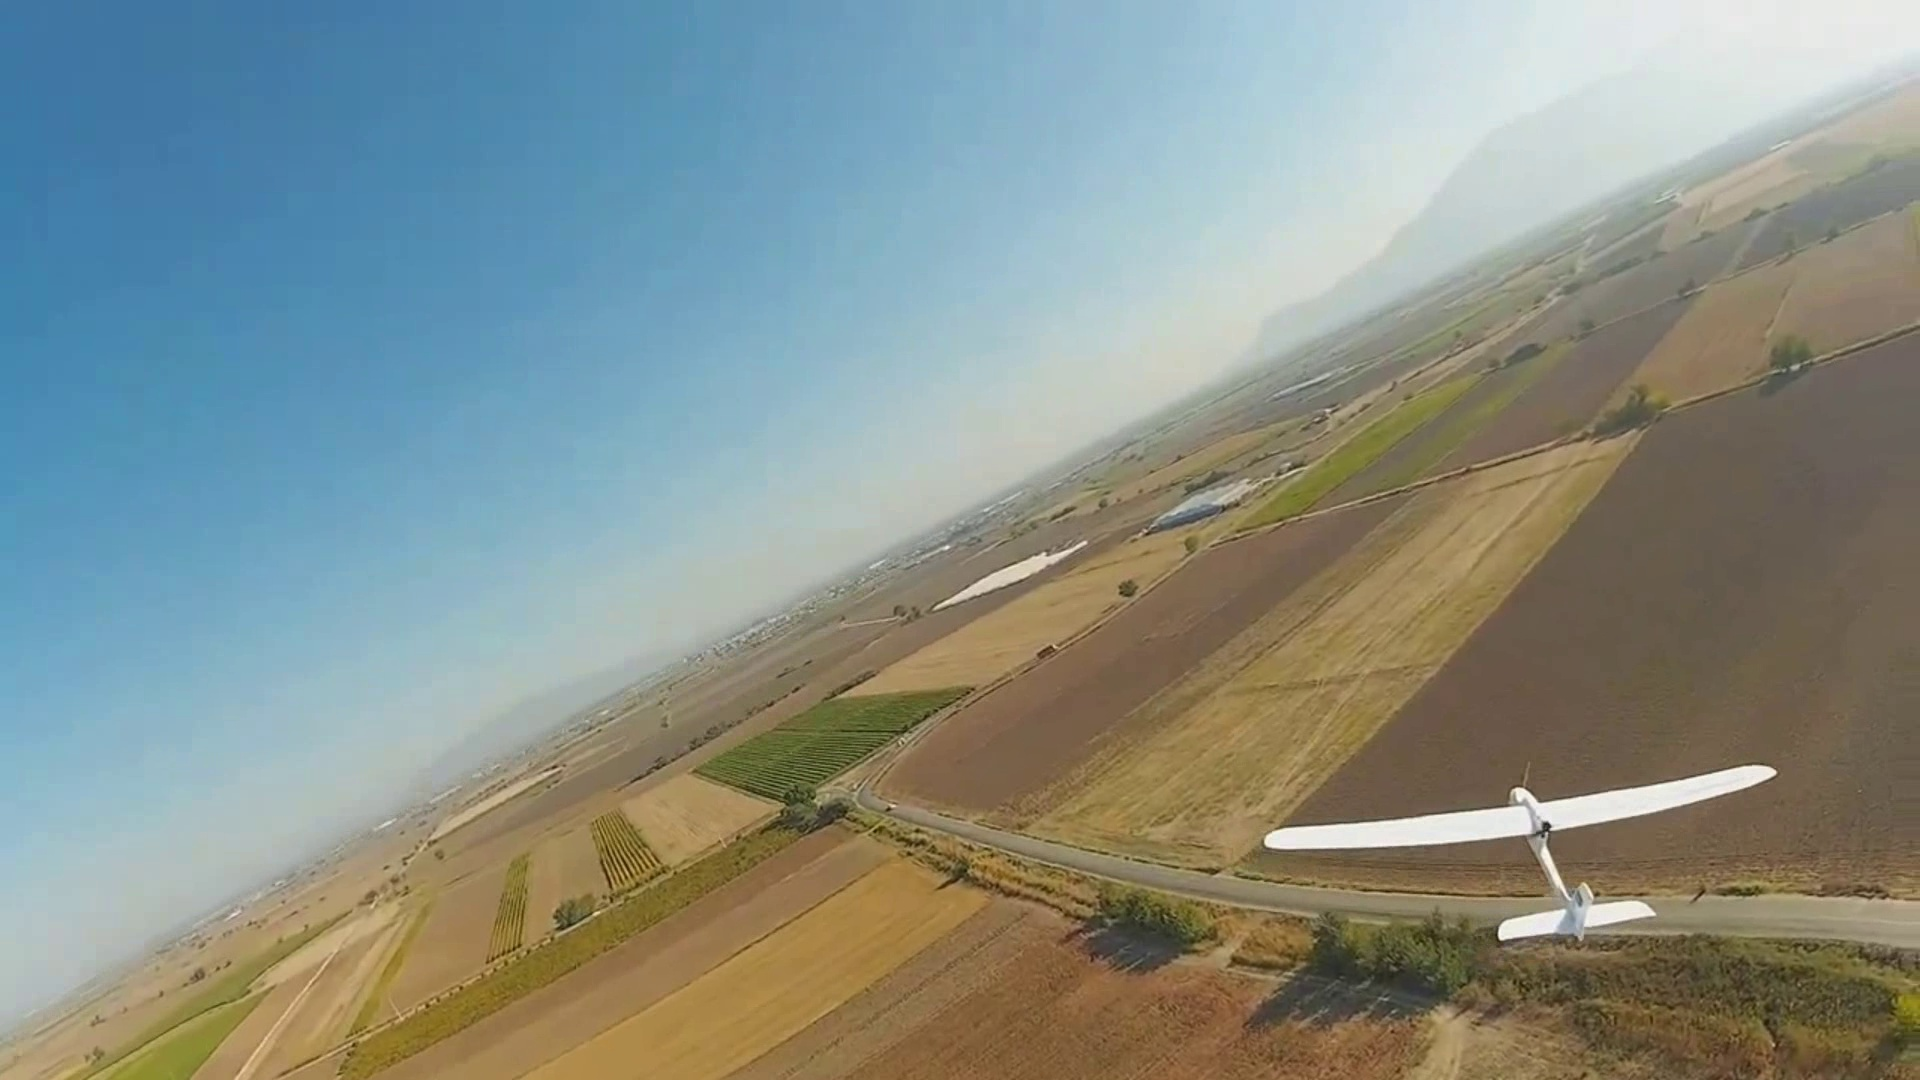airplane: (16, 36, 1902, 967)
